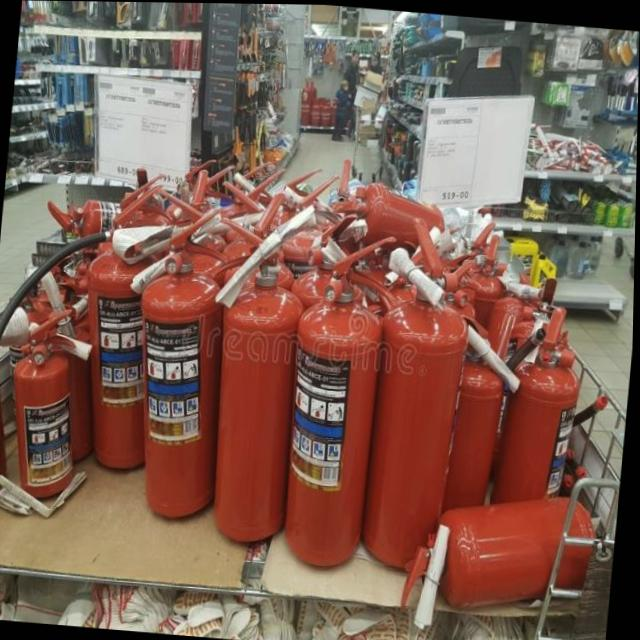FireExtinguisher: (0, 175, 186, 489), (351, 205, 488, 581), (184, 212, 334, 553), (271, 222, 414, 577), (118, 196, 257, 531), (396, 472, 616, 638), (481, 298, 600, 580), (471, 261, 560, 535), (424, 227, 515, 483), (0, 301, 96, 521), (433, 318, 511, 577), (326, 158, 471, 251), (43, 188, 179, 256)
